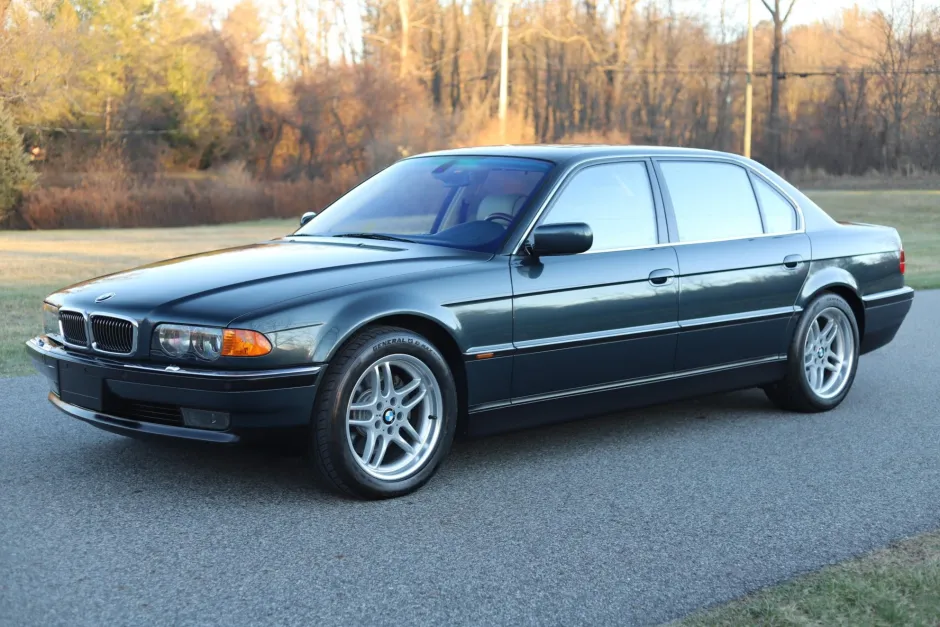car: (20, 130, 919, 507)
